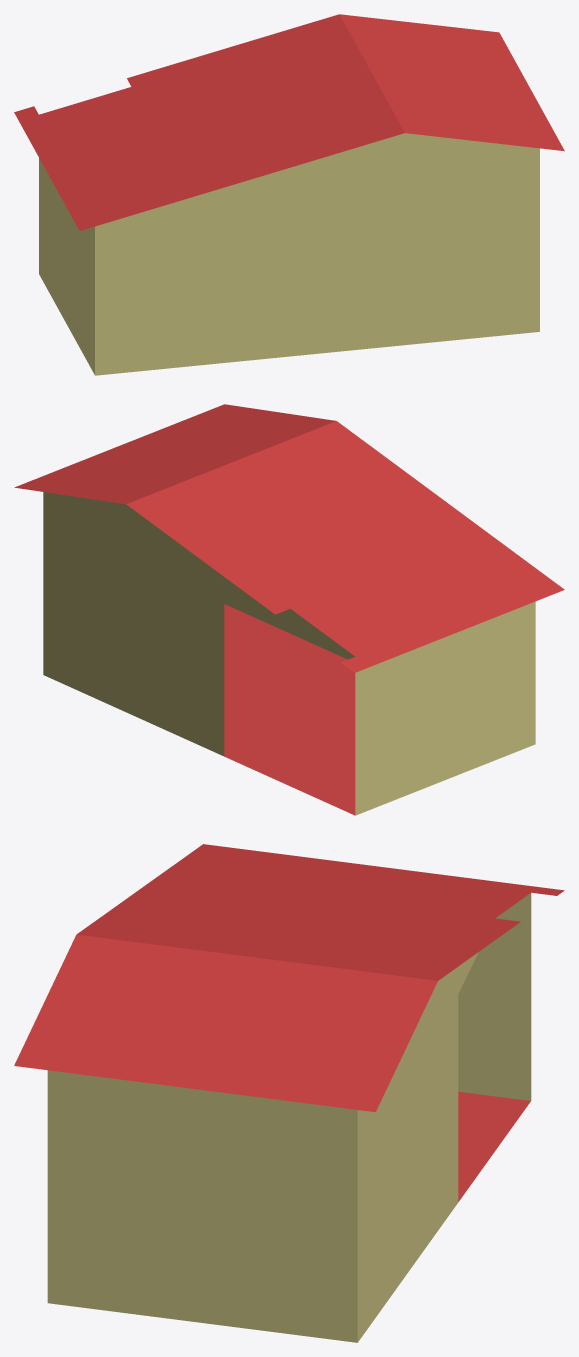
The picture shows the model from 3 angles, top to bottom: view 1: azimuth 30°, elevation 25°; view 2: azimuth 150°, elevation 25°; view 3: azimuth 270°, elevation 25°; orthographic projection. The views are drawn at different scales.
Bounding box in the file's own units: 20.3 × 15.24 × 8.83.
